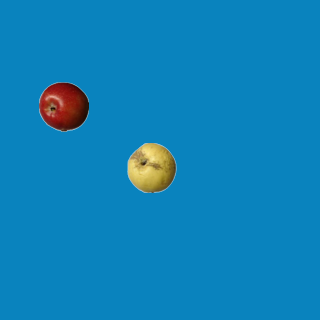Apple Braeburn: (38, 81, 88, 131)
Apple Golden 1: (126, 142, 176, 192)
